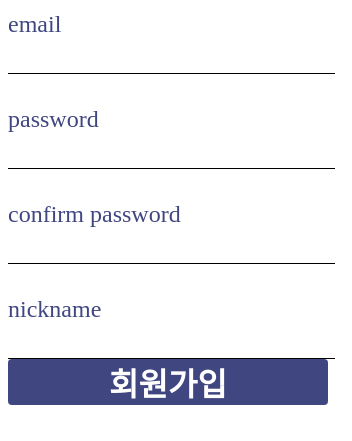
Scenario: Component/Organism/SignupForm › 비밀번호를 입력하지 않았을 경우
Type "qkrdmstlr3@naver.com" into the field labelled "email".
click(172, 56); type("qkrdmstlr3@naver.com")  # box top-left (8, 38), bottom-right (335, 74)
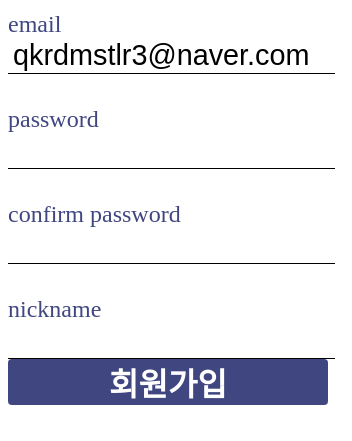
Type "shellboy" into the field labelled "nickname".
click(172, 341); type("shellboy")  # box top-left (8, 323), bottom-right (335, 359)
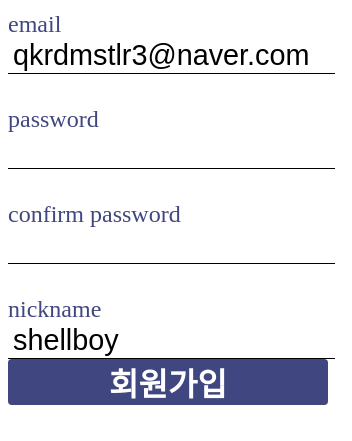
Click the button "회원가입".
click(168, 382)  # box top-left (8, 359), bottom-right (328, 405)
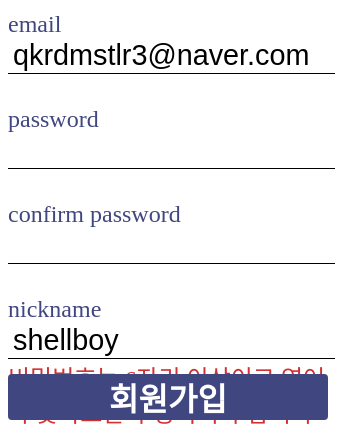
expect the text "비밀번호는 6자리 이상이고 영어와 숫자로만 구성되어야 합니다" is shown: met, box top-left (8, 359), bottom-right (328, 374)
